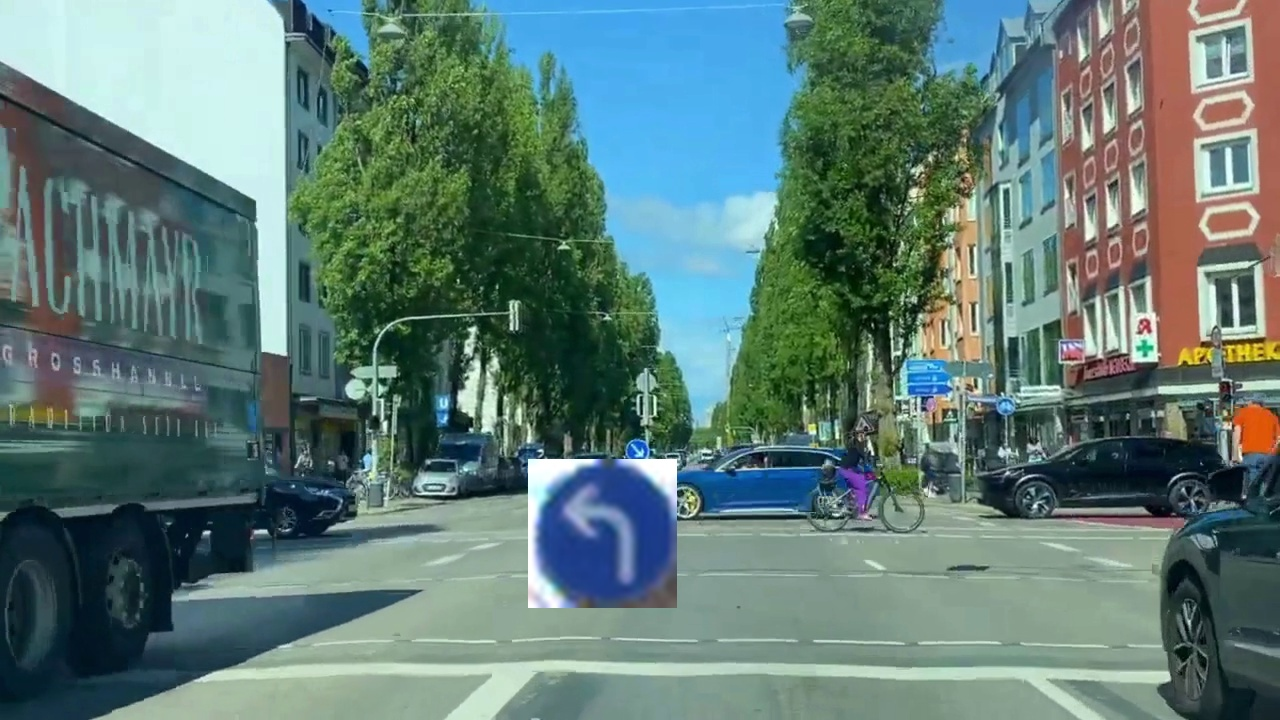Turn left: (528, 459, 677, 608)
